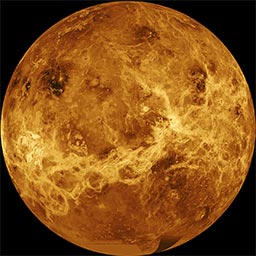planet: (2, 3, 256, 255)
